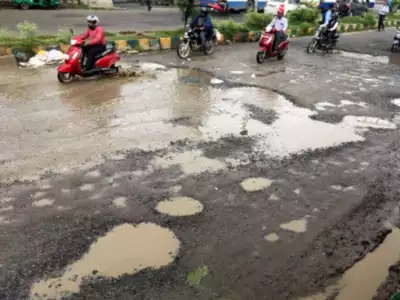pothole: (28, 207, 234, 291), (140, 159, 230, 223), (218, 142, 284, 210)
